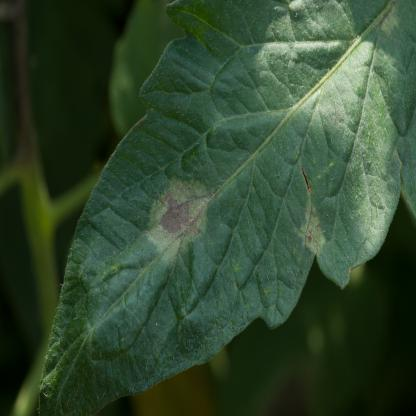Tomato leaf late blight: (25, 5, 410, 407)
